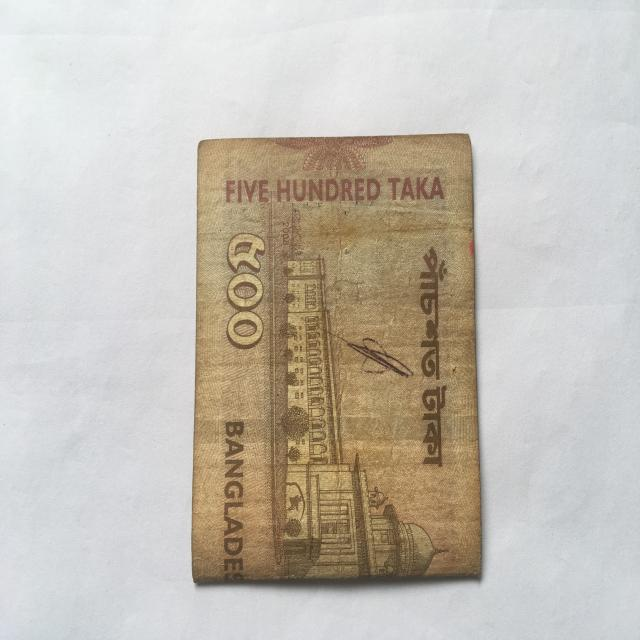Taka: (197, 124, 482, 595)
